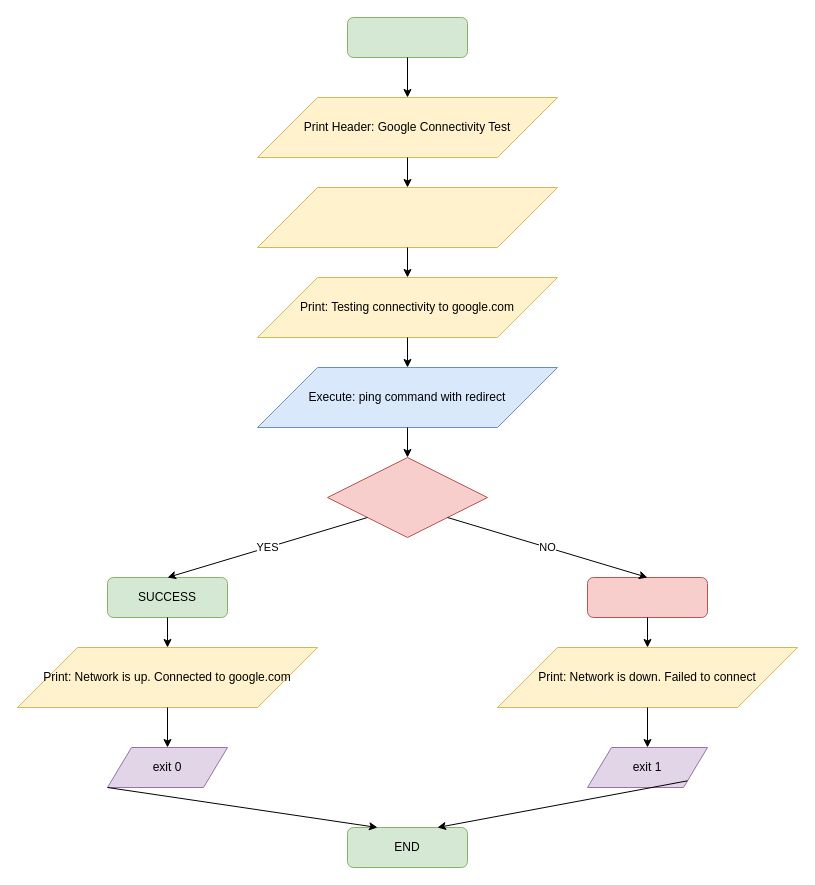
The diagram is 815 pixels wide and 885 high, and some of its shapes have lost their labels. The centre of each missing label's shape, as x and y in pixels:
Check Exit Code: Success: (x=407, y=497)
FAILED: (x=647, y=597)
Print Timestamp: date command: (x=407, y=217)
START: (x=407, y=37)
